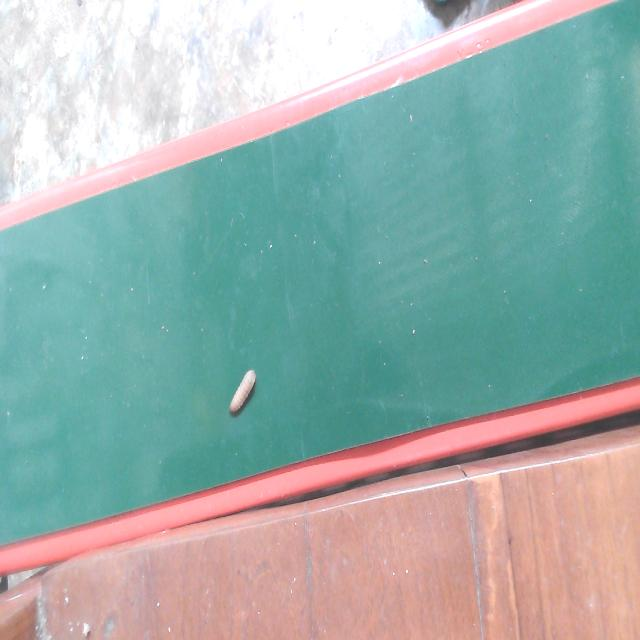Maggot: (228, 370, 257, 419)
